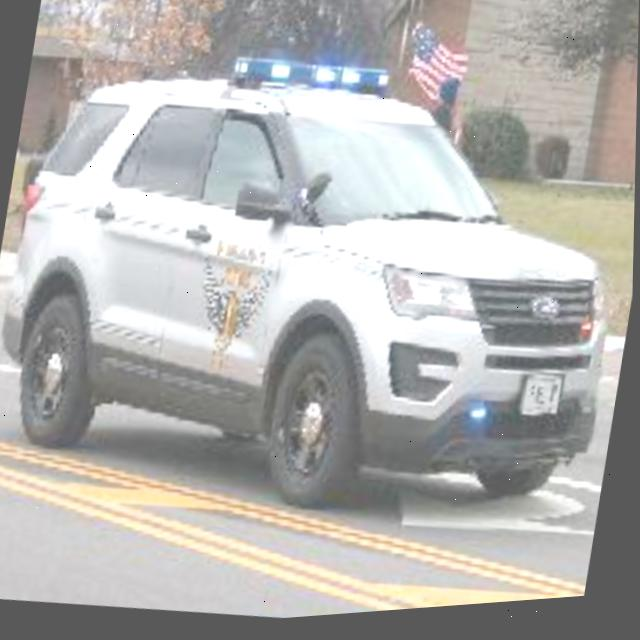emergency: (0, 0, 640, 577)
